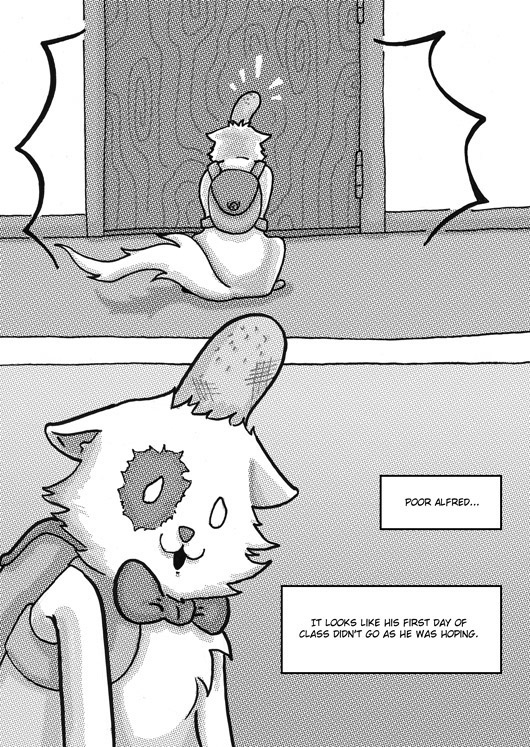cat: (5, 325, 267, 747), (69, 68, 315, 308)
